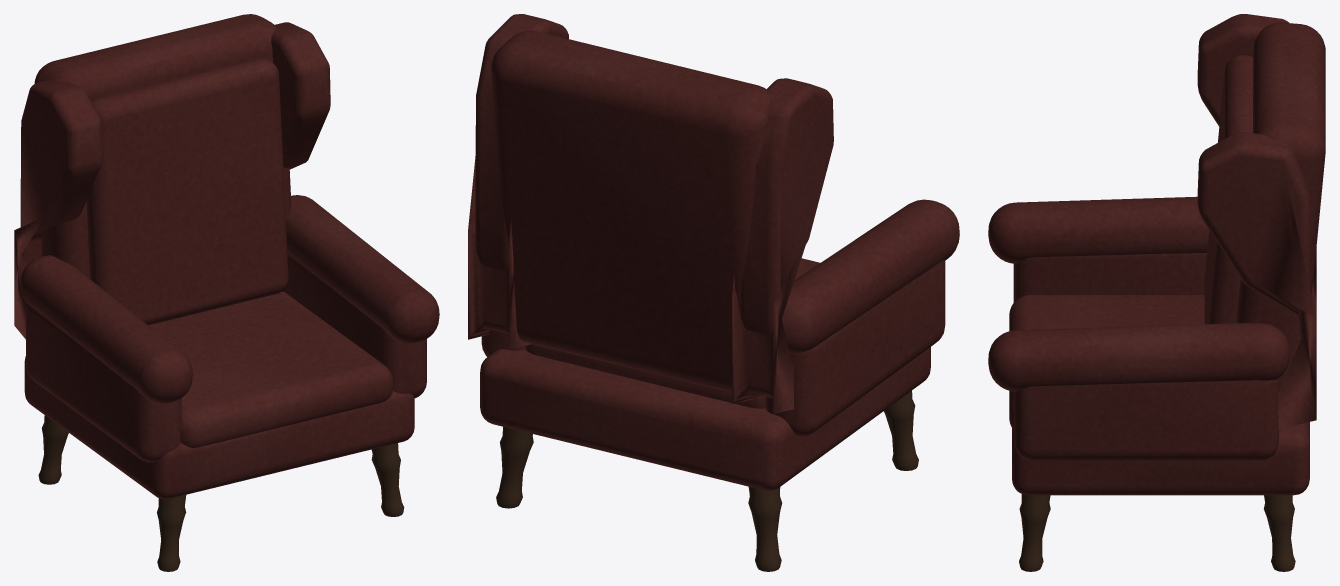
Rendered from annabelle_wingback_chair.glb.
3 views of the same model, side by side, from view 1: azimuth 30°, elevation 25°; view 2: azimuth 150°, elevation 25°; view 3: azimuth 270°, elevation 25° (orthographic). The views are drawn at different scales.
Parts seen in each view (by area): view 1: Annabelle_Wingback_Chair; view 2: Annabelle_Wingback_Chair; view 3: Annabelle_Wingback_Chair.
Boxes of the visible parts, bbox=[...] form: Annabelle_Wingback_Chair: bbox=[14, 14, 439, 571]; Annabelle_Wingback_Chair: bbox=[468, 14, 959, 571]; Annabelle_Wingback_Chair: bbox=[988, 14, 1325, 571].
Size of the model in its own units: 1 by 1.32 by 0.9286.
2 materials, 1 textured.
